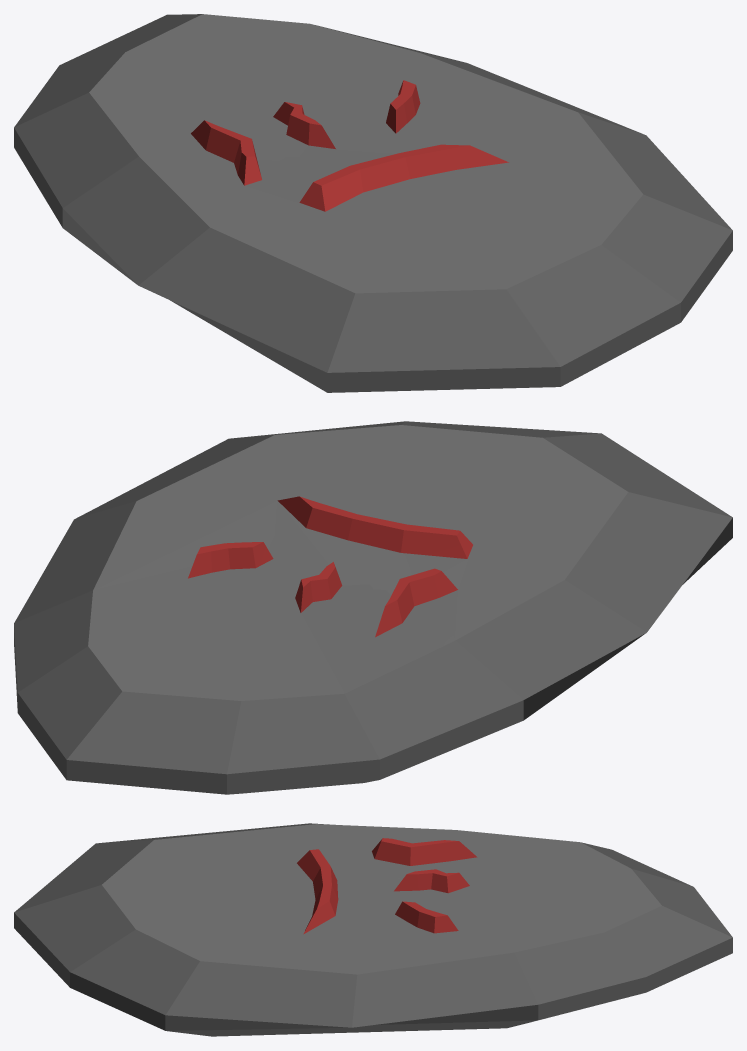
Rendered from fire_rune.glb.
3 renders of one model, top to bottom at view 1: azimuth 30°, elevation 25°; view 2: azimuth 150°, elevation 25°; view 3: azimuth 270°, elevation 25°, orthographic. The views are drawn at different scales.
Parts seen in each view (by area): view 1: Object_8, Object_17, Object_4; view 2: Object_8, Object_17, Object_4; view 3: Object_17, Object_8, Object_4.
Part boxes in pixels (x1,y1,x2,y2): Object_8: [89, 14, 642, 293]; Object_17: [14, 14, 732, 392]; Object_4: [191, 80, 508, 211]; Object_8: [88, 425, 627, 700]; Object_17: [14, 421, 732, 794]; Object_4: [188, 496, 472, 637]; Object_17: [14, 823, 732, 1036]; Object_8: [102, 824, 661, 974]; Object_4: [297, 838, 477, 934].
Bounding box in the file's own units: 3.16 × 0.6321 × 4.7.
